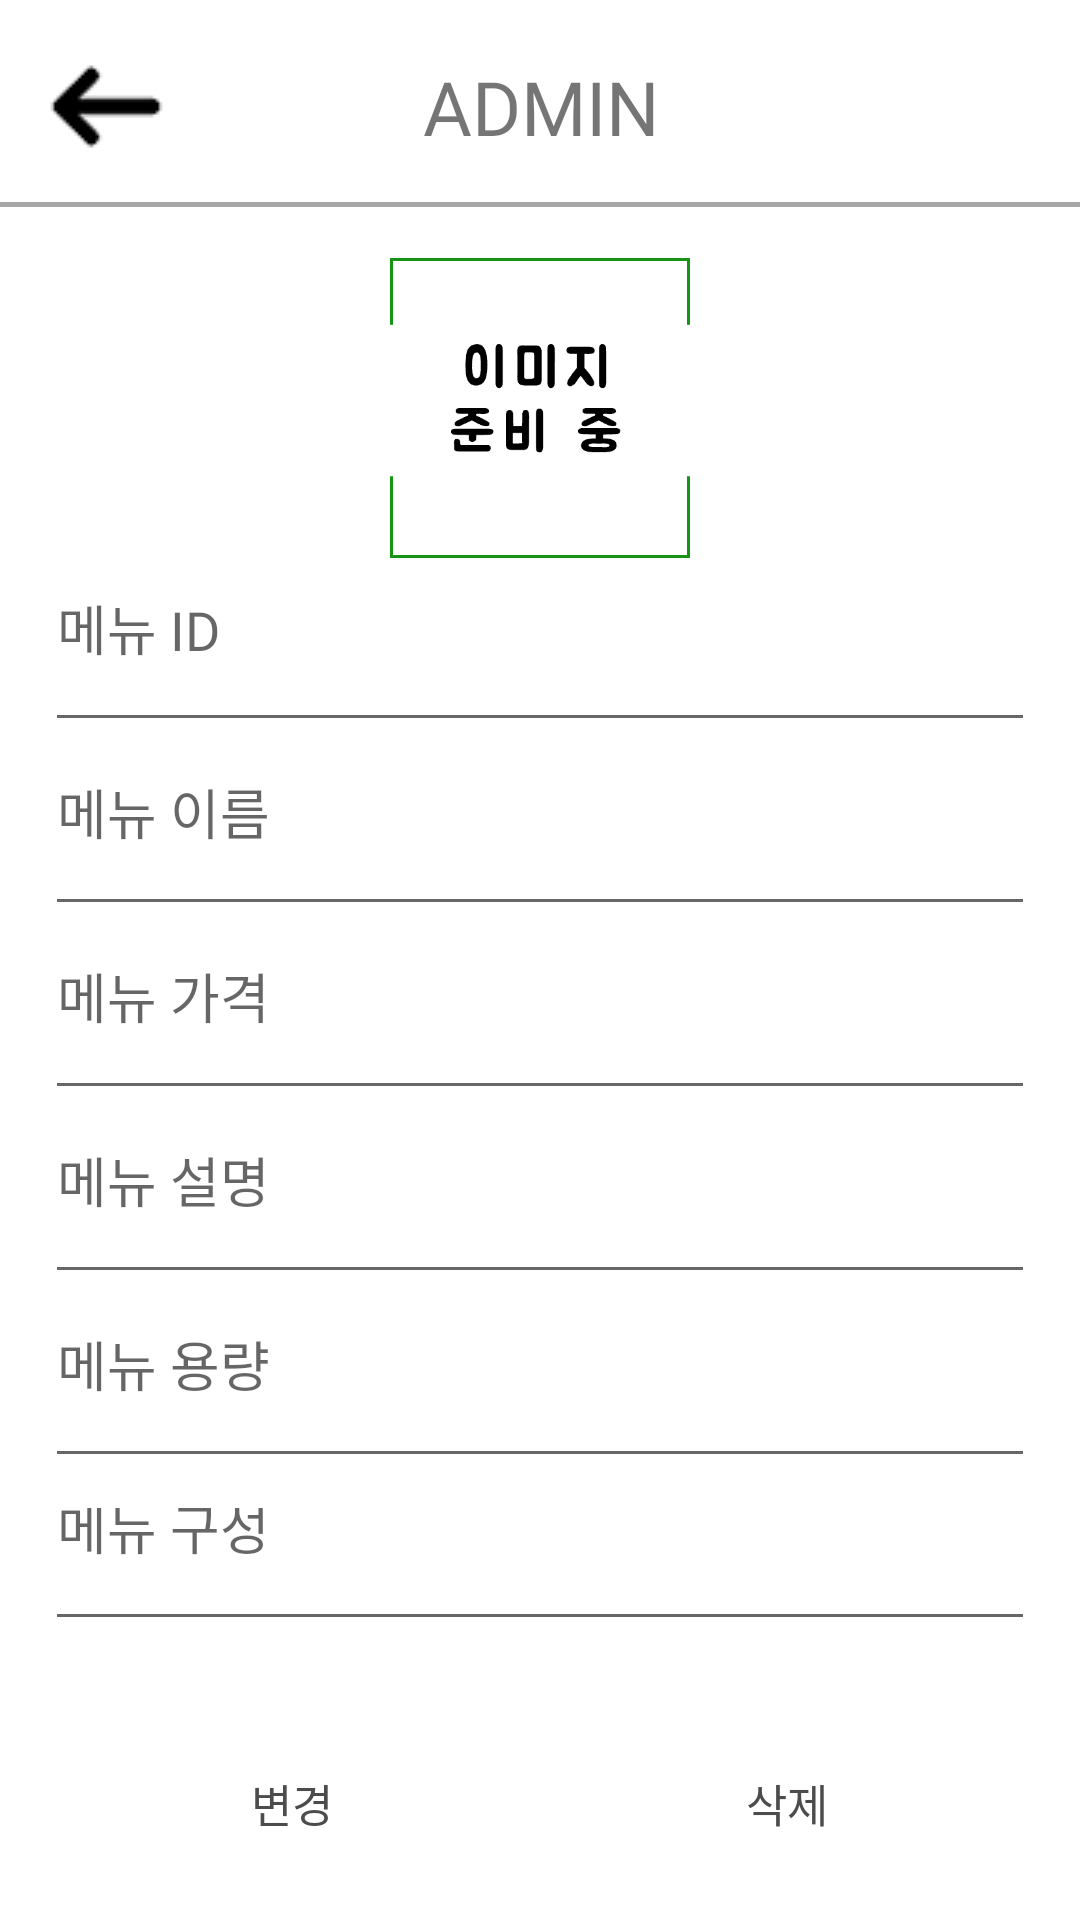

Screen size 1080px x 1920px. Icon name, then its center in pixels as (x,y):
back: (106,106)
